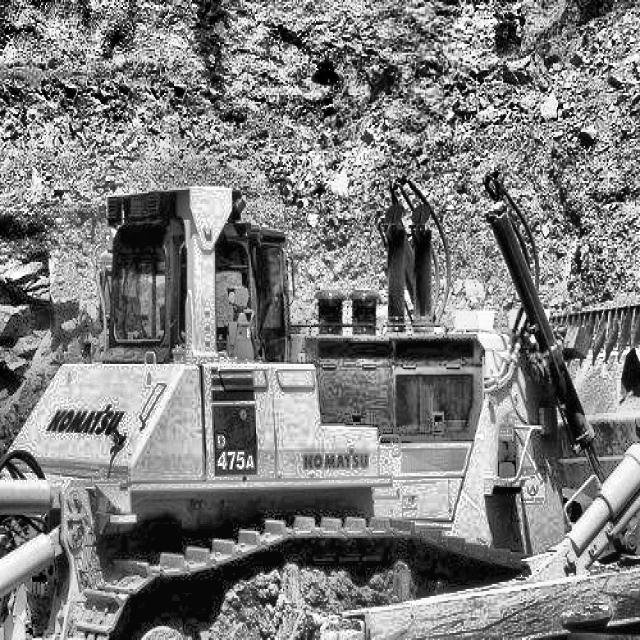buldozerpayloadergrader: (0, 130, 640, 640)
